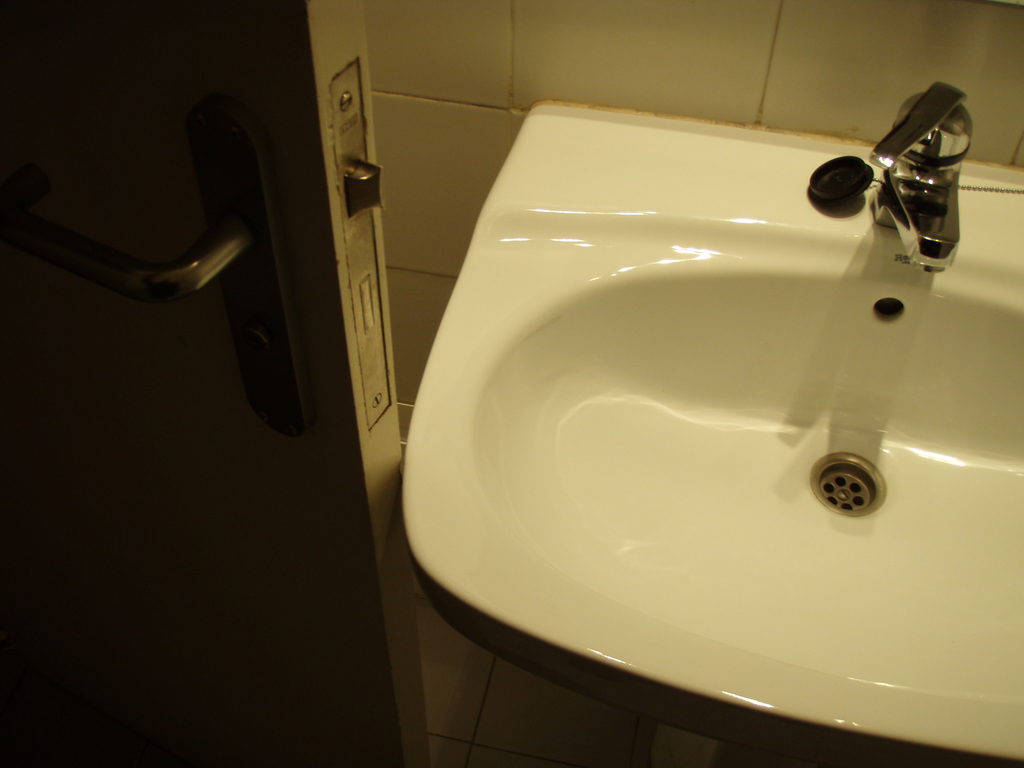tap: (865, 80, 960, 273)
